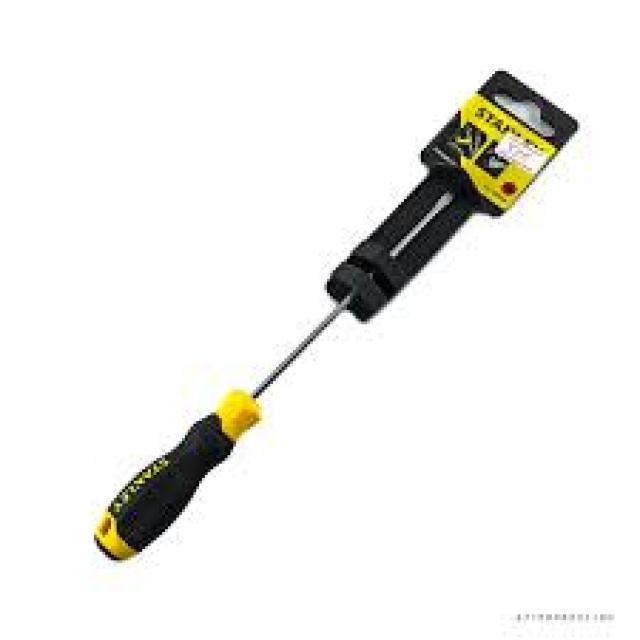screwdriver: (92, 176, 468, 566)
